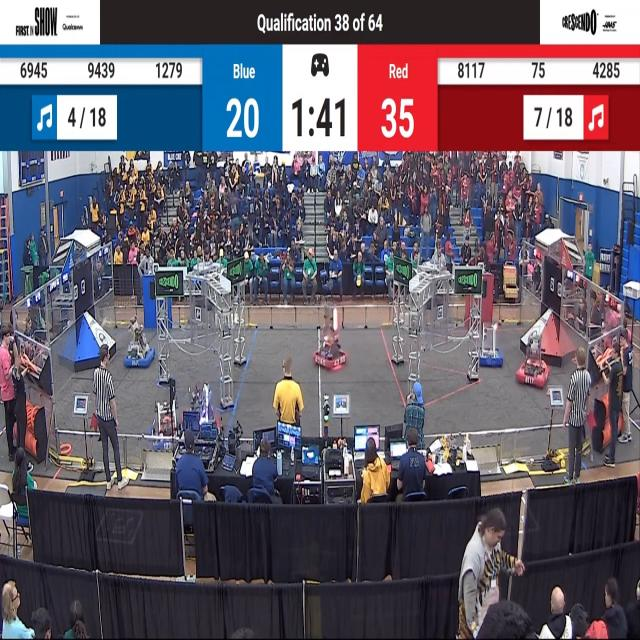Robot: (311, 306, 348, 377), (145, 394, 182, 456), (514, 332, 550, 392), (184, 377, 217, 433), (476, 315, 504, 374), (125, 318, 155, 372)
